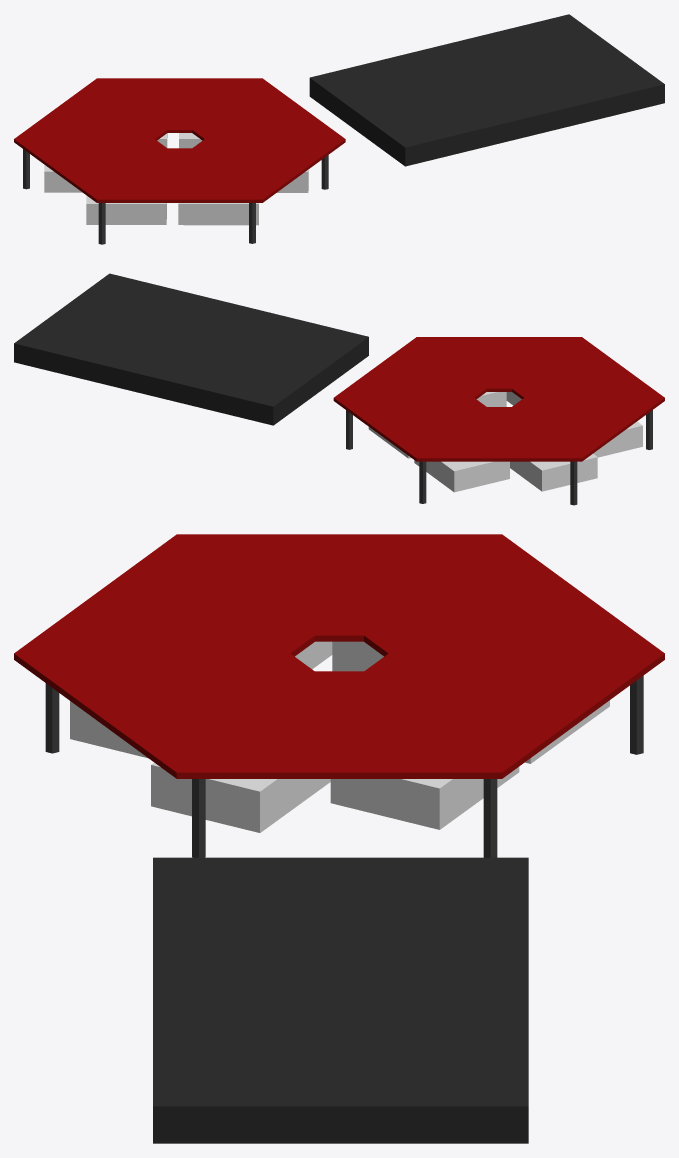
File: ruby_node.glb
The picture shows the model from 3 angles, top to bottom: view 1: azimuth 30°, elevation 25°; view 2: azimuth 150°, elevation 25°; view 3: azimuth 270°, elevation 25°; orthographic projection. The views are drawn at different scales.
Parts seen in each view (by area): view 1: TouchScreen.007, Circle.003, TouchScreen.006, TouchScreen.009, TouchScreen.004, TouchScreen.008; view 2: TouchScreen.007, Circle.003, TouchScreen.001, TouchScreen.004, TouchScreen.006, TouchScreen.008; view 3: Circle.003, TouchScreen.007, TouchScreen.008, TouchScreen.003, TouchScreen.009, TouchScreen.004, Cylinder.002, Cylinder.003, Cylinder.001, Cylinder.006.
Part boxes in pixels (x1,y1,x2,y2): TouchScreen.007: (309, 14, 664, 166); Circle.003: (14, 78, 345, 202); TouchScreen.006: (86, 195, 166, 224); TouchScreen.009: (178, 203, 258, 225); TouchScreen.004: (44, 165, 82, 192); TouchScreen.008: (277, 169, 308, 192); TouchScreen.007: (14, 273, 368, 425); Circle.003: (333, 337, 664, 461); TouchScreen.001: (414, 460, 509, 492); TouchScreen.004: (510, 454, 597, 491); TouchScreen.006: (593, 421, 642, 457); TouchScreen.008: (476, 392, 506, 406); Circle.003: (14, 534, 664, 778); TouchScreen.007: (153, 857, 528, 1143); TouchScreen.008: (151, 762, 330, 832); TouchScreen.003: (330, 767, 519, 829); TouchScreen.009: (70, 701, 147, 757); TouchScreen.004: (332, 641, 383, 671); Cylinder.002: (483, 779, 497, 857); Cylinder.003: (192, 779, 205, 857); Cylinder.001: (630, 675, 643, 754); Cylinder.006: (45, 683, 59, 753).
Size of the model in its own units: 0.4036 by 0.034 by 0.2062.
